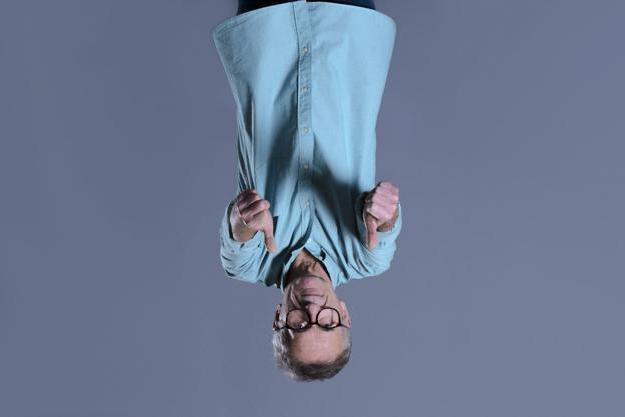thumbsdown: (363, 181, 400, 249), (237, 189, 276, 253)
